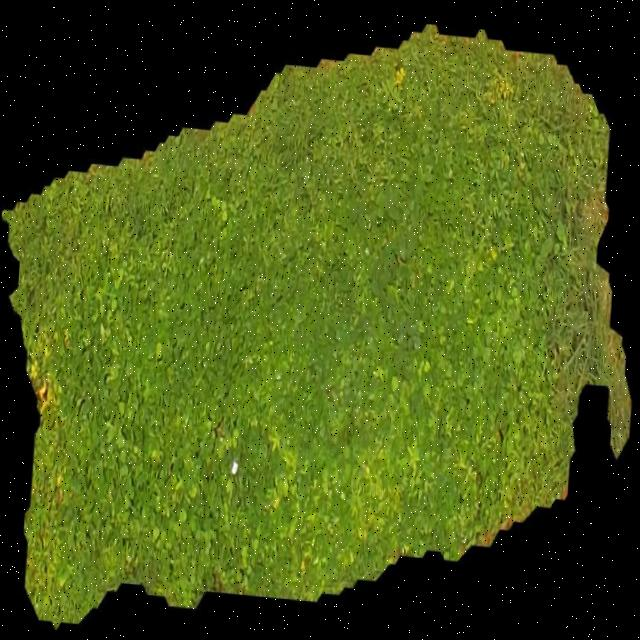Bean: (3, 21, 633, 629)
